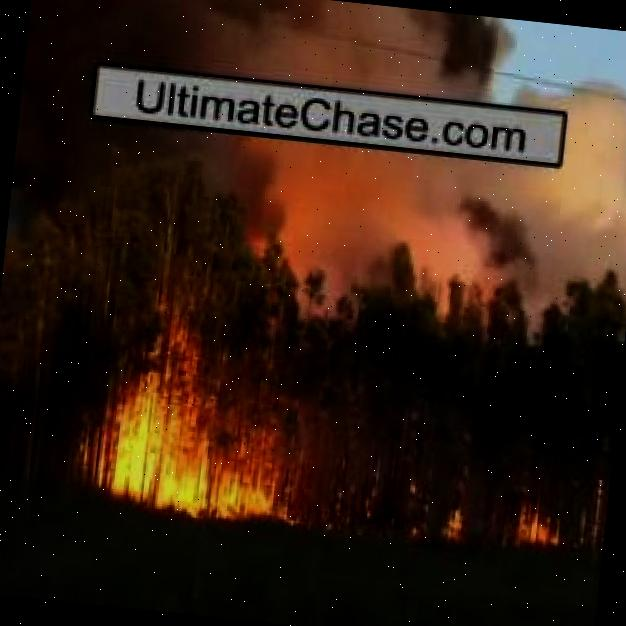fire: (93, 359, 304, 524), (510, 502, 568, 553), (435, 506, 473, 539)
